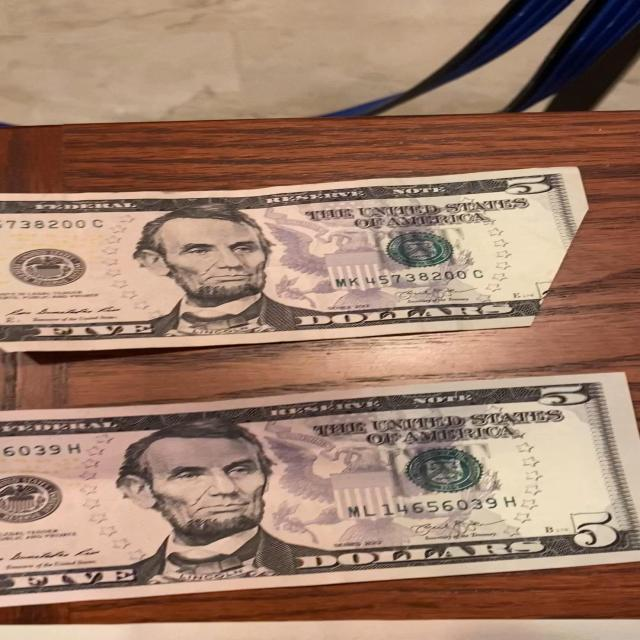5-Front: (0, 370, 640, 602), (0, 172, 578, 357)
